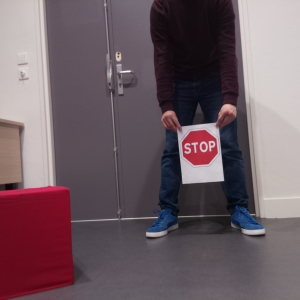stop: (181, 130, 220, 166)
